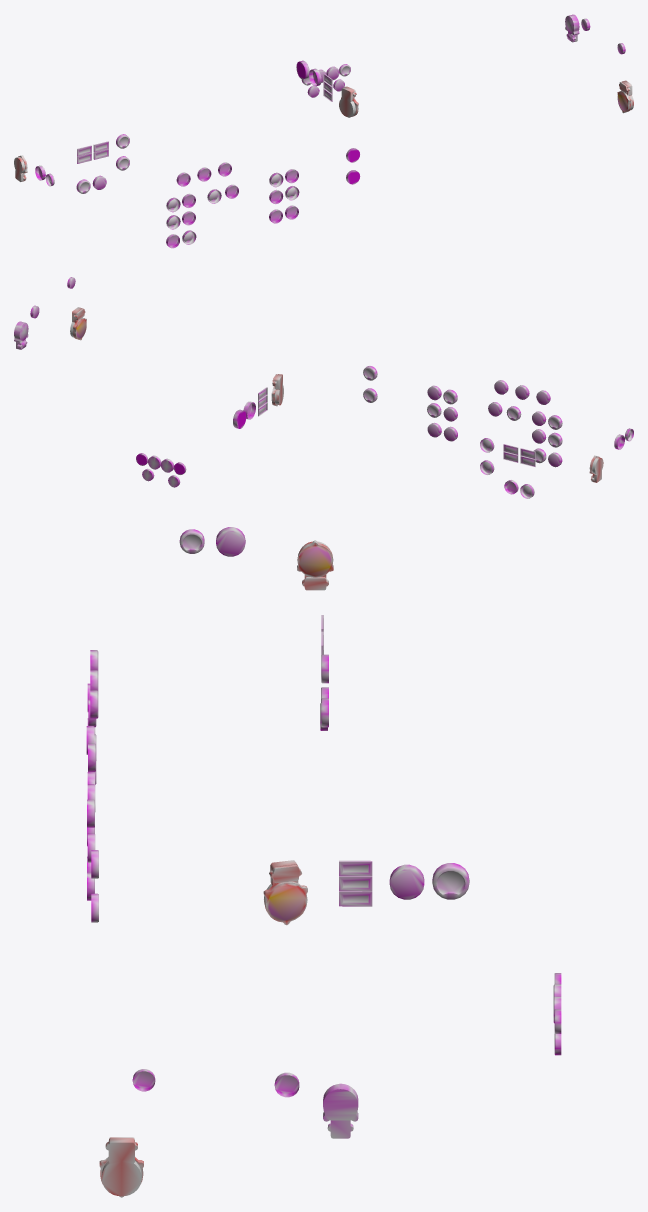
File: SM_ElectricRoom-Altimeters.fbx
3 views of the same model, one above another, from view 1: azimuth 30°, elevation 25°; view 2: azimuth 150°, elevation 25°; view 3: azimuth 270°, elevation 25° (orthographic). The views are drawn at different scales.
Parts seen in each view (by area): view 1: SM_ElectricRoom-Altimeters_LOD0; view 2: SM_ElectricRoom-Altimeters_LOD0; view 3: SM_ElectricRoom-Altimeters_LOD0.
Part boxes in pixels (box(x1,y1,x2,y2)): SM_ElectricRoom-Altimeters_LOD0: box(14, 14, 633, 248); SM_ElectricRoom-Altimeters_LOD0: box(14, 277, 633, 498); SM_ElectricRoom-Altimeters_LOD0: box(86, 527, 561, 1197).
Size of the model in its own units: 1196 by 436 by 166.
